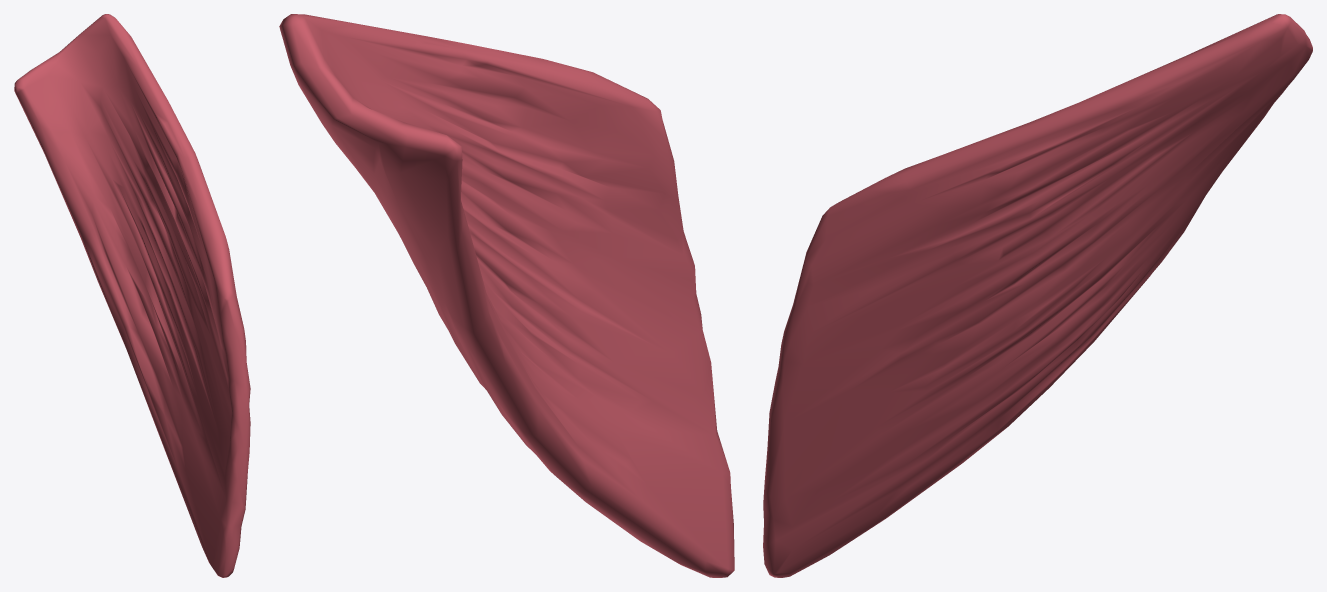
3 renders of one model, left to right at view 1: azimuth 30°, elevation 25°; view 2: azimuth 150°, elevation 25°; view 3: azimuth 270°, elevation 25°, orthographic. The views are drawn at different scales.
Visible parts, largest first — view 1: 左侧舌骨舌肌; view 2: 左侧舌骨舌肌; view 3: 左侧舌骨舌肌.
Part boxes in pixels (x1,y1,x2,y2): 左侧舌骨舌肌: [14, 14, 250, 577]; 左侧舌骨舌肌: [279, 14, 734, 577]; 左侧舌骨舌肌: [763, 14, 1312, 577].
Size of the model in its own units: 0.0116 by 0.0453 by 0.0373.
